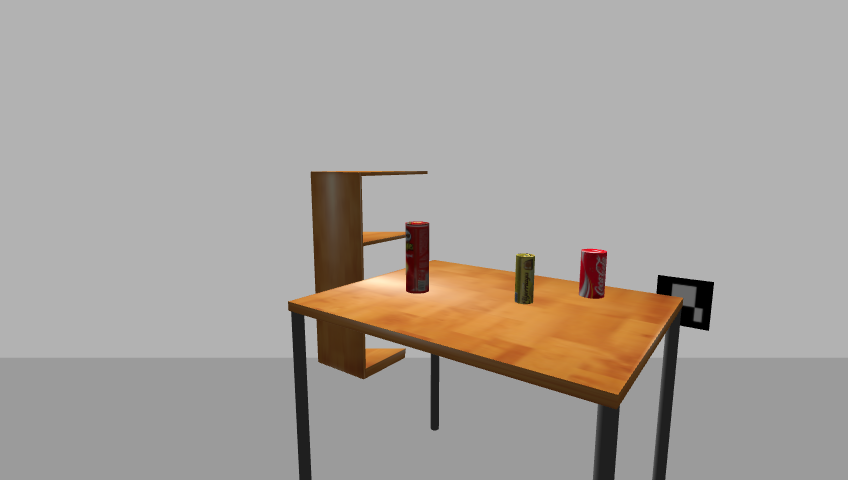aruco marker: (652, 273, 718, 332)
biscuits pack: (514, 253, 535, 306)
bookshelf: (306, 167, 433, 385)
coke can: (579, 249, 608, 300)
dinner table: (280, 261, 693, 480)
pringles can: (403, 221, 432, 296)
